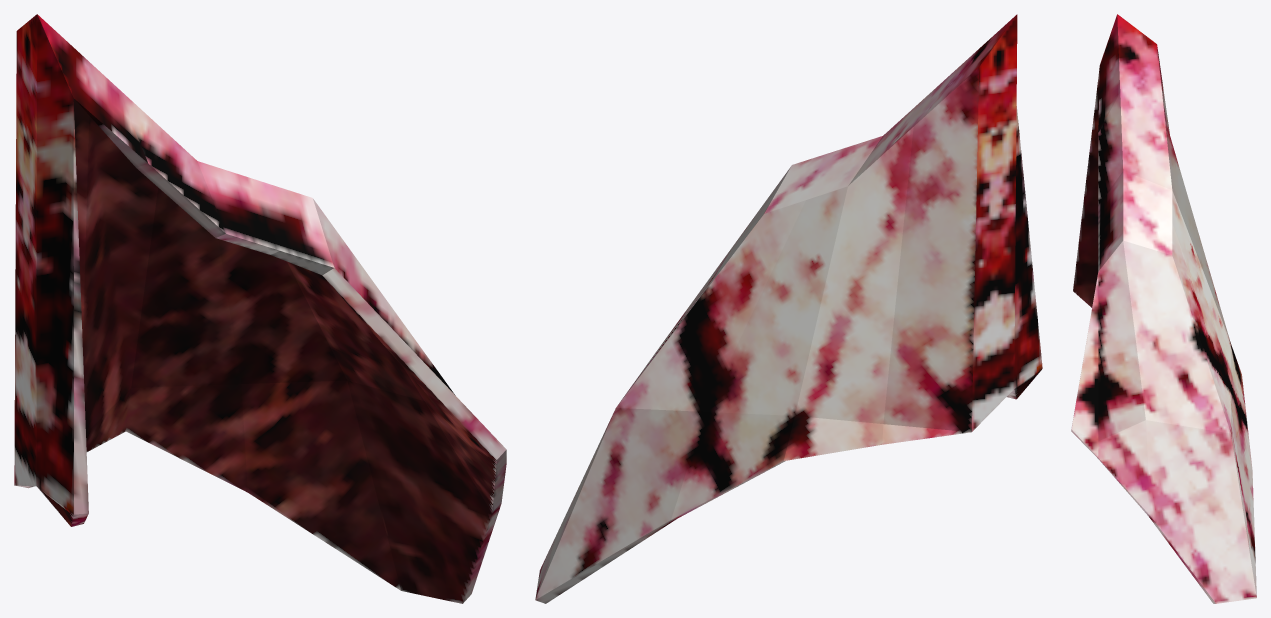
File: TornSkull4.fbx
3 views of the same model, side by side, from view 1: azimuth 30°, elevation 25°; view 2: azimuth 150°, elevation 25°; view 3: azimuth 270°, elevation 25° (orthographic). The views are drawn at different scales.
Parts seen in each view (by area): view 1: TornSkull4; view 2: TornSkull4; view 3: TornSkull4.
Boxes of the visible parts, x1=… form: TornSkull4: x1=14, y1=14, x2=506, y2=603; TornSkull4: x1=535, y1=14, x2=1042, y2=603; TornSkull4: x1=1071, y1=14, x2=1256, y2=603.
Bounding box in the file's own units: 273 × 391 × 146.
